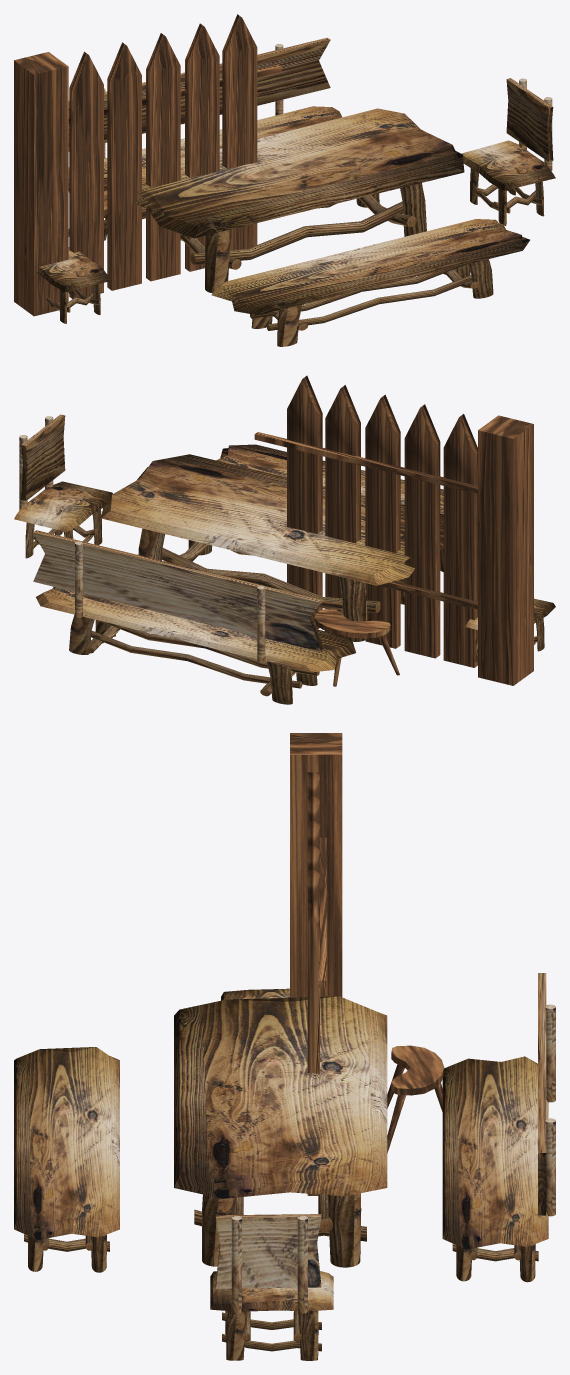
The model's file is Chair - type 1.fbx.
3 renders of one model, top to bottom at view 1: azimuth 30°, elevation 25°; view 2: azimuth 150°, elevation 25°; view 3: azimuth 270°, elevation 25°, orthographic. The views are drawn at different scales.
Parts seen in each view (by area): view 1: pCube18, masa, peika_bez_oblegalka, pCube5, stol_s_oblegalka, peika_s_oblegalka, stol_bez_oblegalka; view 2: pCube18, peika_s_oblegalka, masa, pCube5, stol_s_oblegalka, peika_bez_oblegalka, Wooden_Chair, stol_bez_oblegalka; view 3: masa, peika_s_oblegalka, peika_bez_oblegalka, stol_s_oblegalka, pCube5, pCube18, Wooden_Chair.
Part boxes in pixels (box(x1,y1,x2,y2)): pCube18: box(68, 14, 281, 298); masa: box(133, 108, 464, 293); peika_bez_oblegalka: box(211, 219, 529, 346); pCube5: box(14, 52, 68, 316); stol_s_oblegalka: box(461, 78, 555, 225); peika_s_oblegalka: box(68, 37, 341, 218); stol_bez_oblegalka: box(37, 247, 111, 323); pCube18: box(254, 375, 477, 667); peika_s_oblegalka: box(33, 530, 355, 704); masa: box(101, 454, 443, 641); pCube5: box(478, 415, 533, 685); stol_s_oblegalka: box(14, 414, 112, 558); peika_bez_oblegalka: box(216, 444, 443, 571); Wooden_Chair: box(314, 609, 399, 686); stol_bez_oblegalka: box(465, 598, 555, 662); masa: box(174, 996, 387, 1267); peika_s_oblegalka: box(442, 973, 555, 1282); peika_bez_oblegalka: box(14, 1047, 119, 1272); stol_s_oblegalka: box(210, 1214, 333, 1360); pCube5: box(290, 733, 342, 997); pCube18: box(307, 772, 326, 1195); Wooden_Chair: box(387, 1045, 444, 1153).
Bounding box in the file's own units: 774 × 361 × 558.
2 materials, 2 textured.
